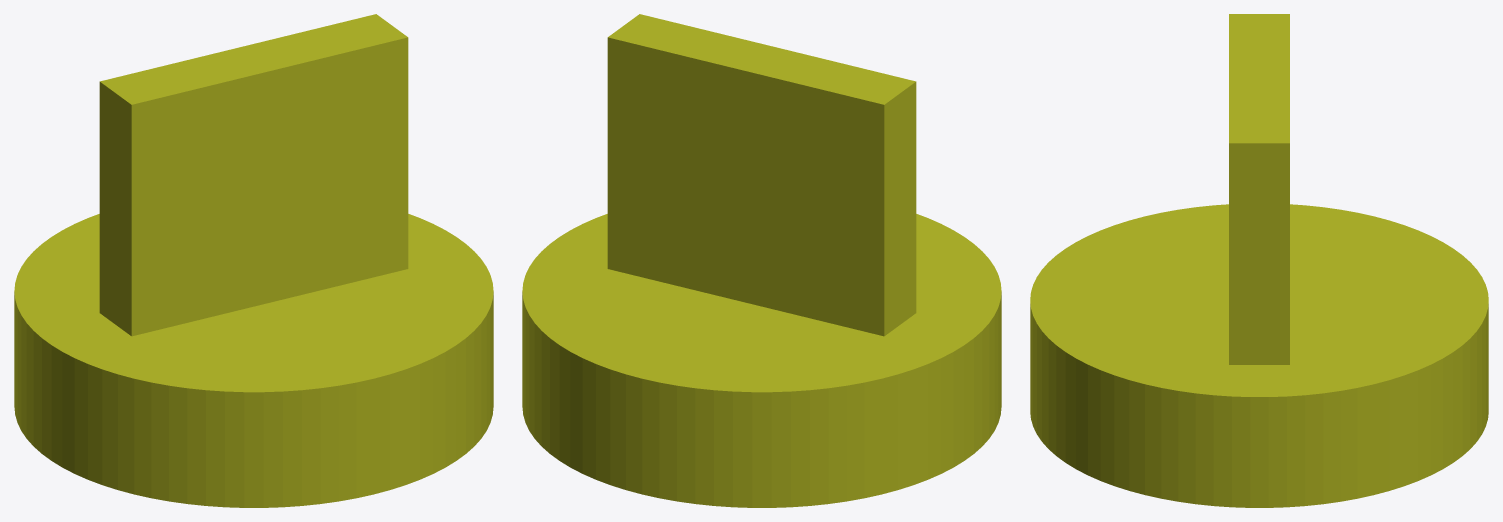
Rendered from SmallValve.dae.
3 renders of one model, left to right at view 1: azimuth 30°, elevation 25°; view 2: azimuth 150°, elevation 25°; view 3: azimuth 270°, elevation 25°, orthographic. The views are drawn at different scales.
Visible parts, largest first — view 1: ShapeIndexedFaceSet; view 2: ShapeIndexedFaceSet; view 3: ShapeIndexedFaceSet.
Part boxes in pixels (bbox=[...]): ShapeIndexedFaceSet: bbox=[14, 14, 493, 507]; ShapeIndexedFaceSet: bbox=[522, 14, 1001, 507]; ShapeIndexedFaceSet: bbox=[1030, 14, 1488, 507].
Size of the model in its own units: 0.0749 by 0.075 by 0.06.
